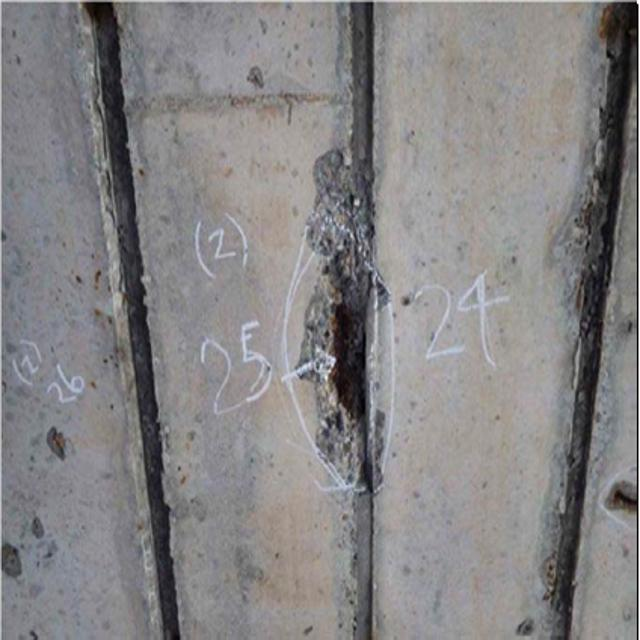crack: (287, 138, 393, 502)
